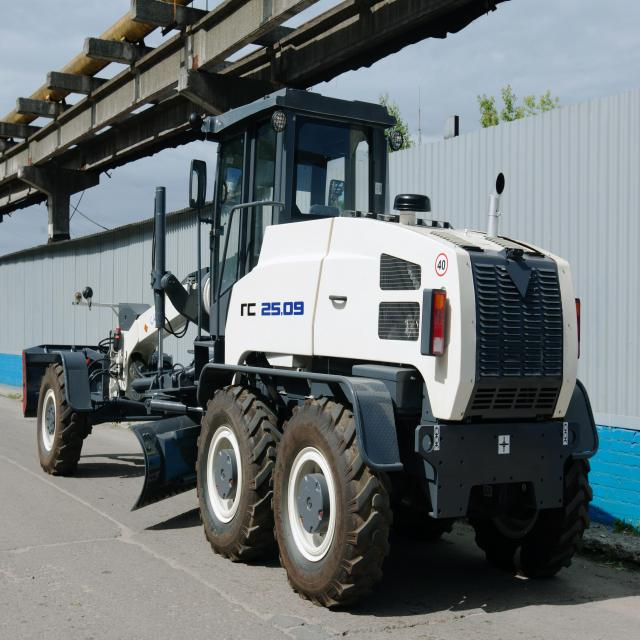Grader: (22, 80, 609, 608)
